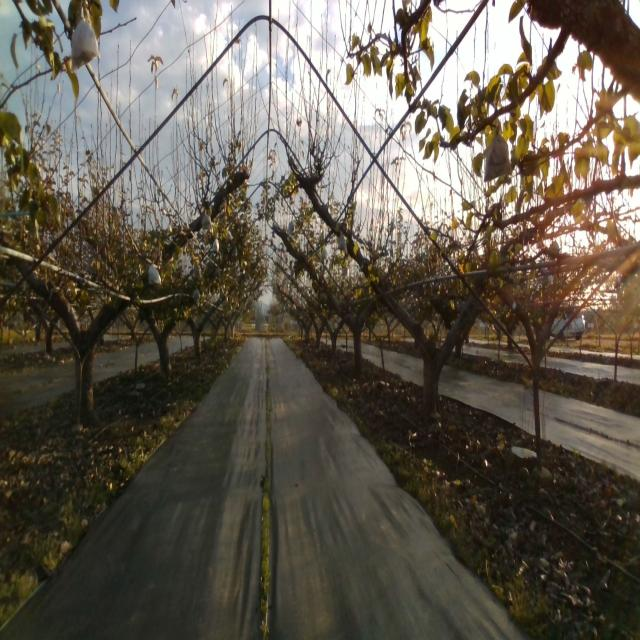pearbags: (483, 122, 513, 182), (71, 18, 100, 72), (148, 259, 162, 286), (336, 229, 348, 256), (202, 209, 212, 230)
